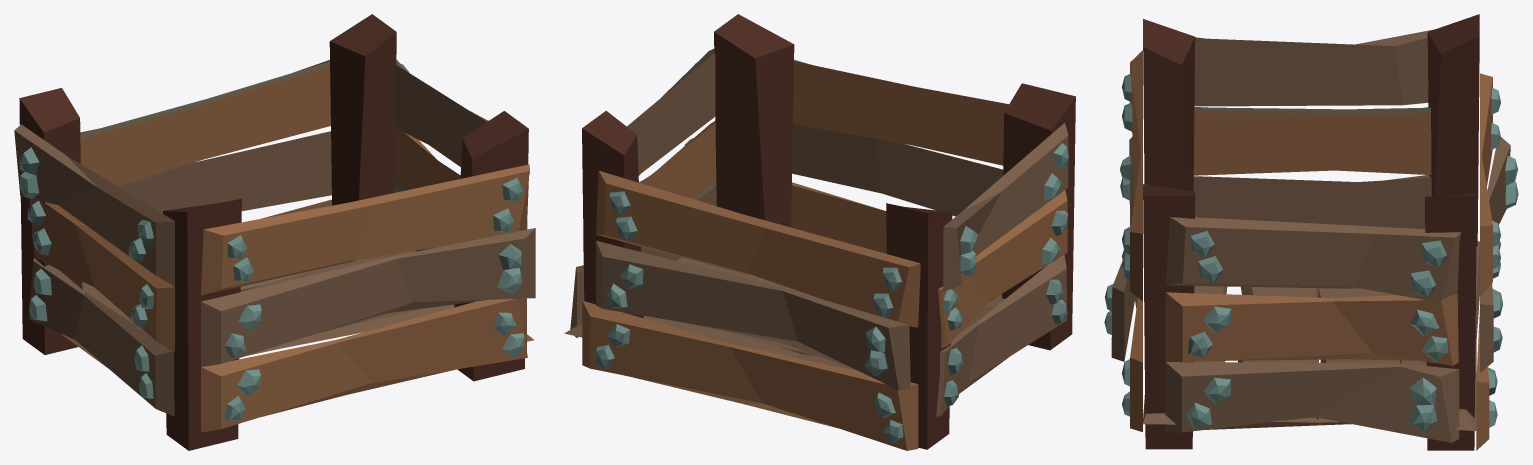
Rendered from SM_L_Fruitbox.fbx.
3 renders of one model, left to right at view 1: azimuth 30°, elevation 25°; view 2: azimuth 150°, elevation 25°; view 3: azimuth 270°, elevation 25°, orthographic. The views are drawn at different scales.
Visible parts, largest first — view 1: SM_L_Fruit_Box; view 2: SM_L_Fruit_Box; view 3: SM_L_Fruit_Box.
Boxes of the visible parts, bbox=[...] form: SM_L_Fruit_Box: bbox=[14, 14, 535, 450]; SM_L_Fruit_Box: bbox=[564, 14, 1075, 450]; SM_L_Fruit_Box: bbox=[1104, 14, 1518, 450].
Size of the model in its own units: 37.77 by 21.52 by 31.59.
